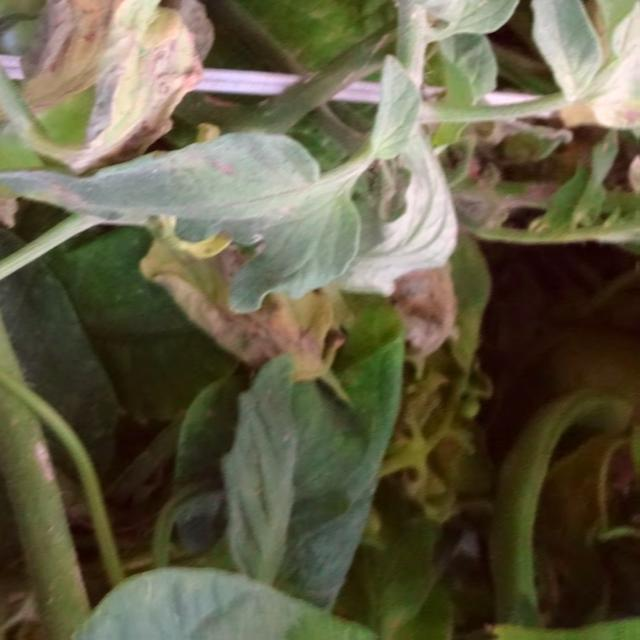Tomato leaf late blight: (0, 137, 377, 328), (527, 0, 640, 157)
